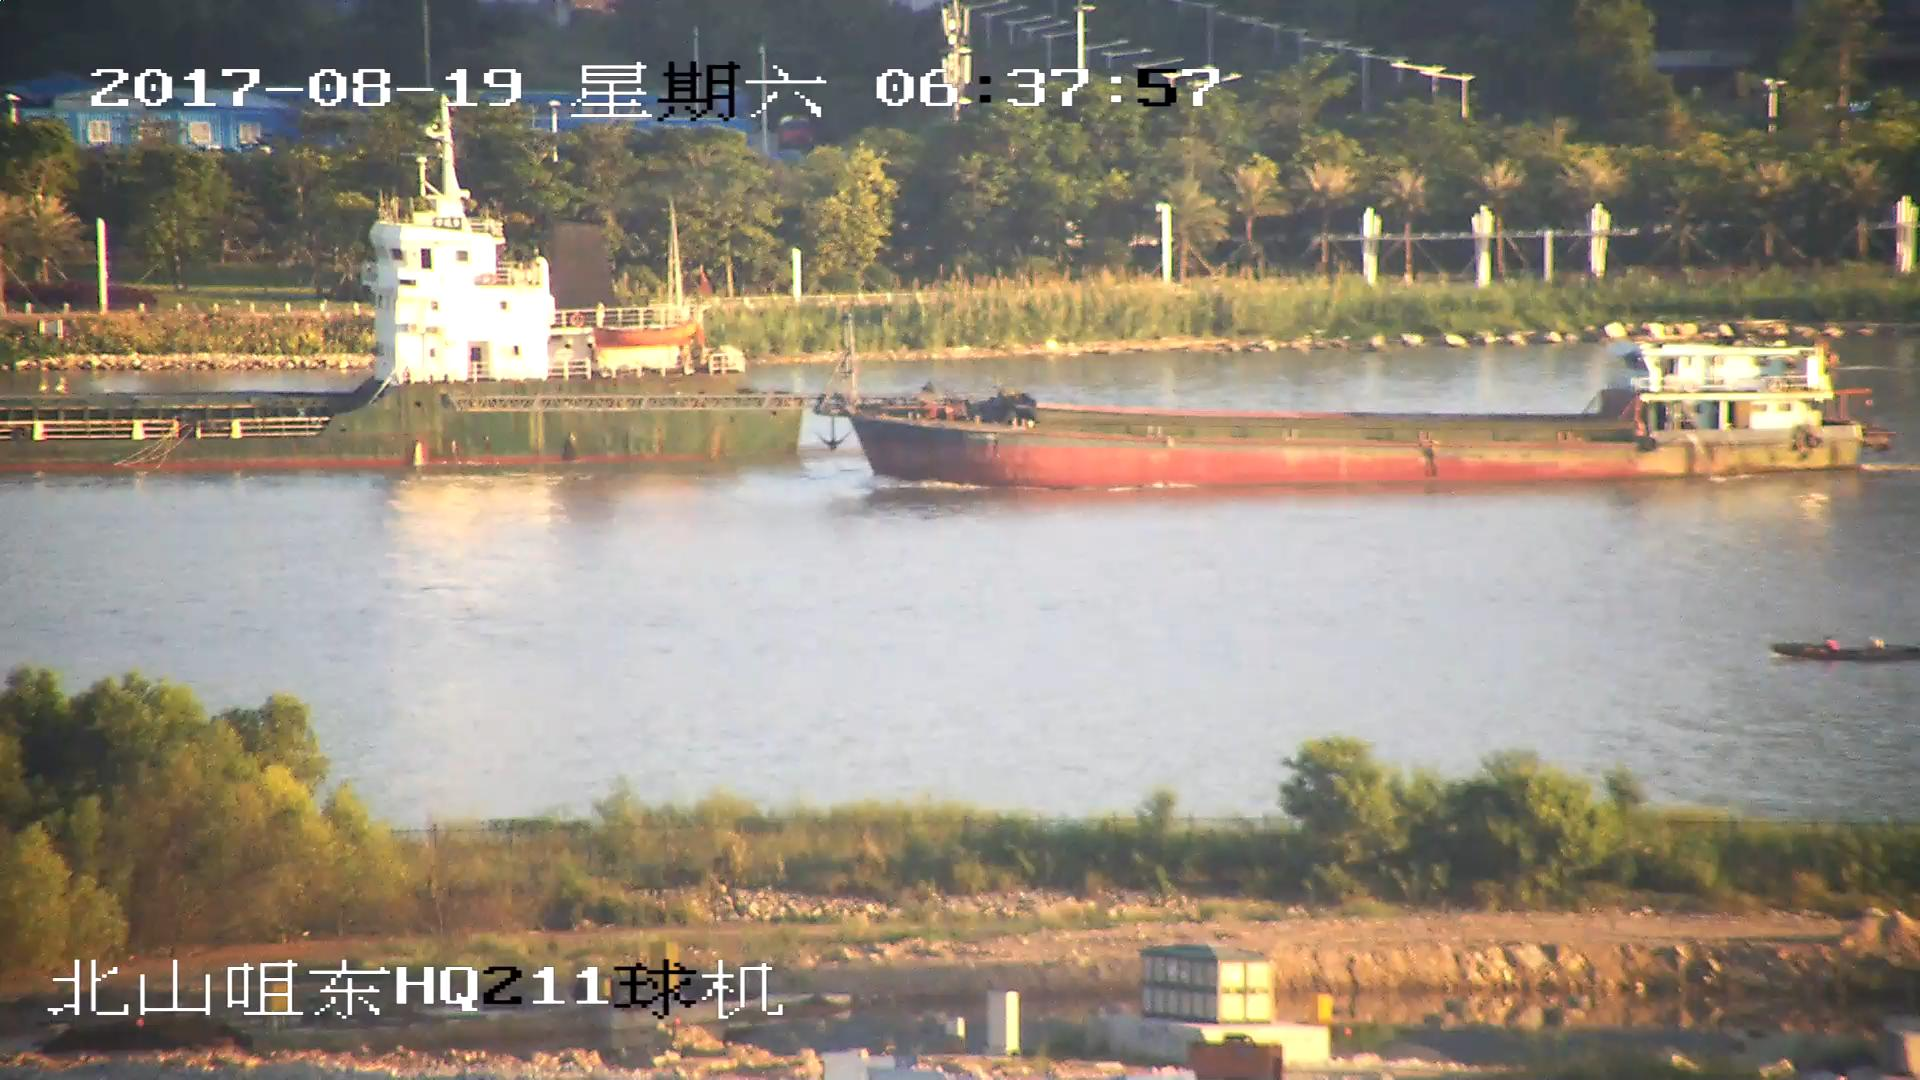bulk cargo carrier: (815, 326, 1879, 486)
fishing boat: (1774, 633, 1920, 668)
general cargo ship: (1, 141, 802, 462)
